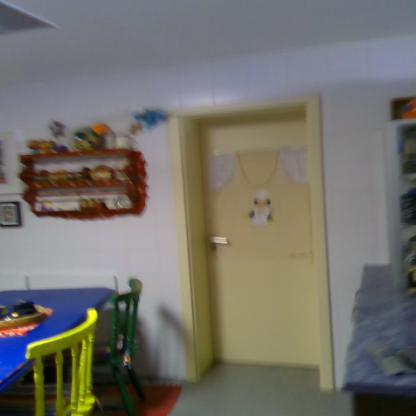door: (200, 122, 324, 368)
lever: (207, 235, 232, 247)
